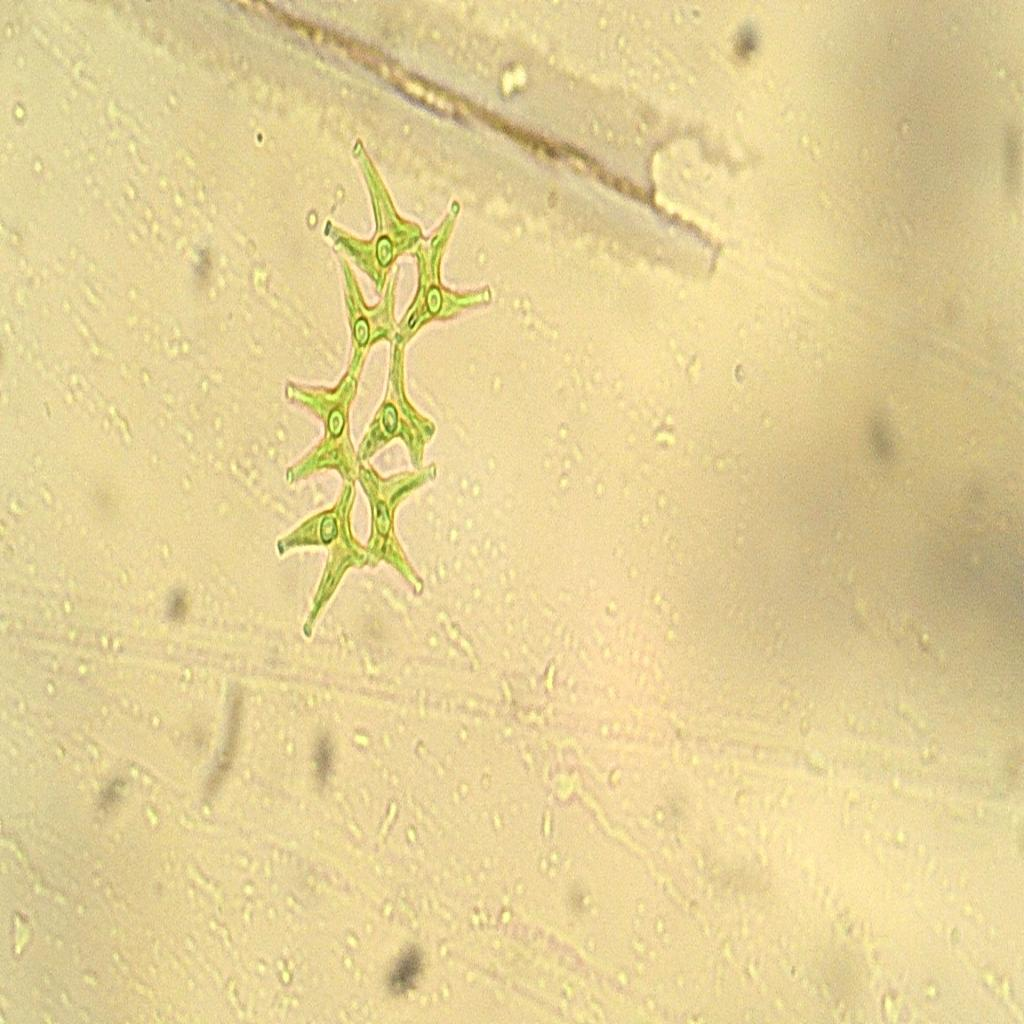Pediastrum_1TH: (267, 118, 498, 680)
